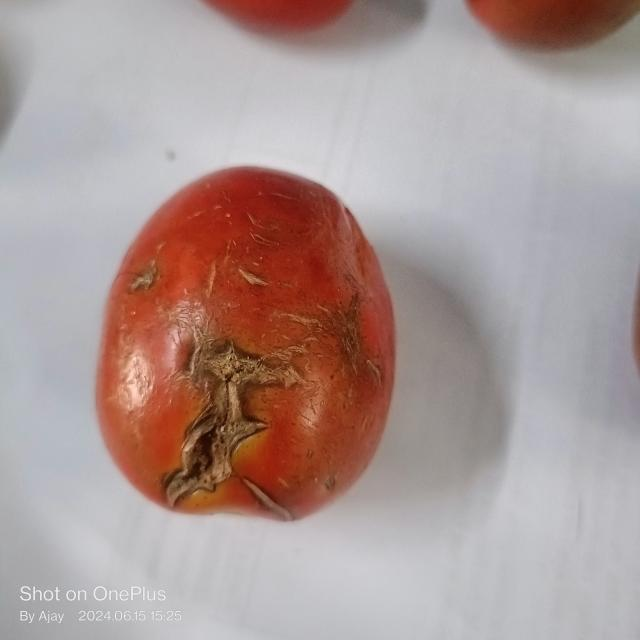tomato_cracking: (146, 331, 312, 523)
